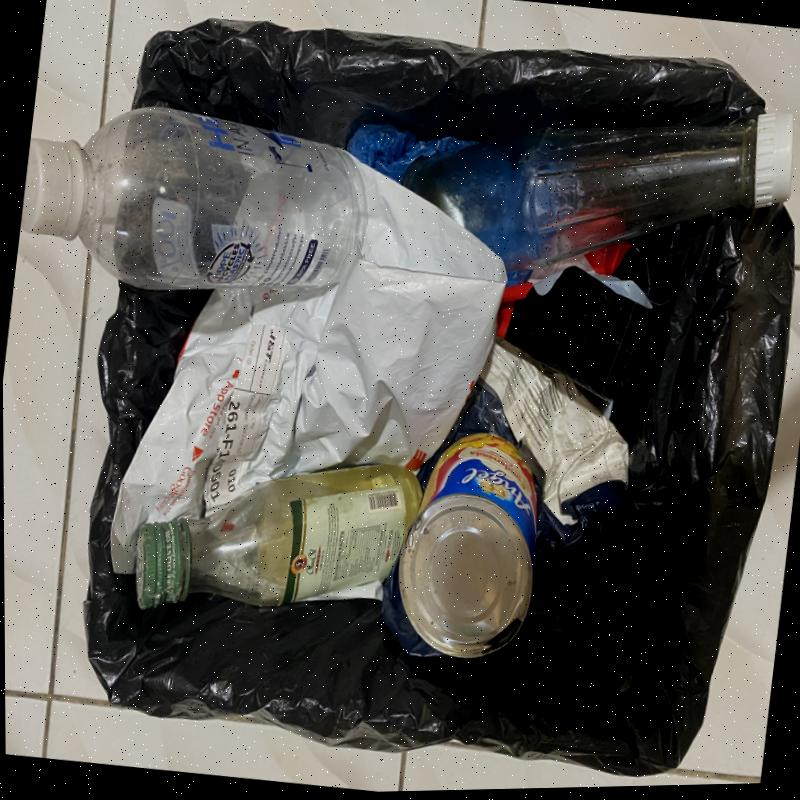aluminum: (398, 432, 538, 657)
glass bottle: (398, 114, 793, 274), (135, 462, 429, 609)
plastic bag: (108, 148, 507, 574), (415, 335, 627, 576)
plastic bottle: (20, 107, 369, 291)
